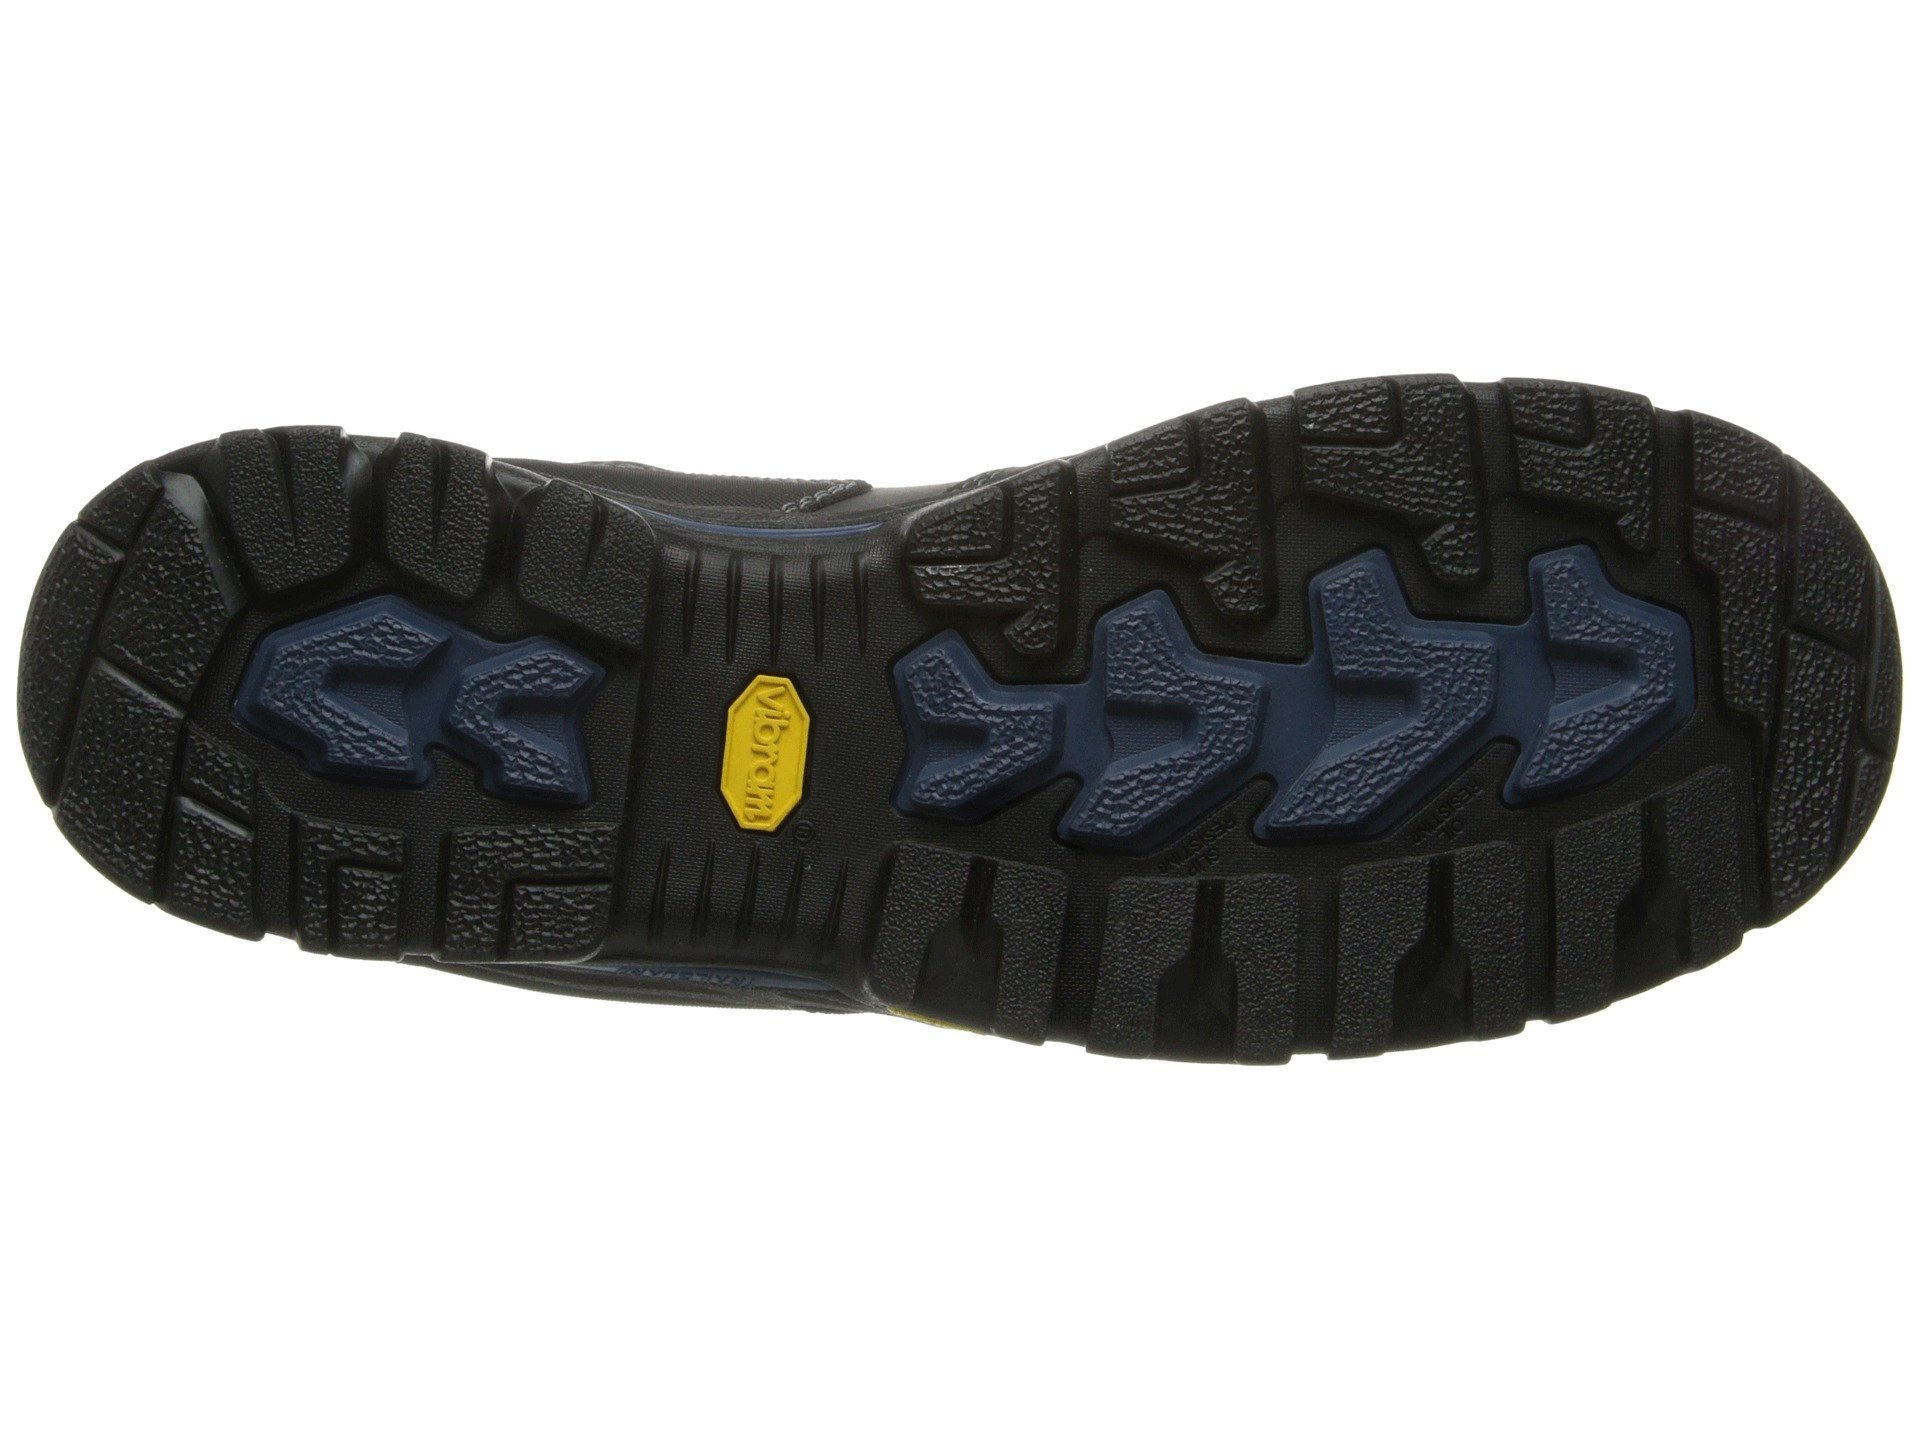quad: (283, 818, 417, 961), (150, 788, 266, 939), (1281, 368, 1414, 448)
